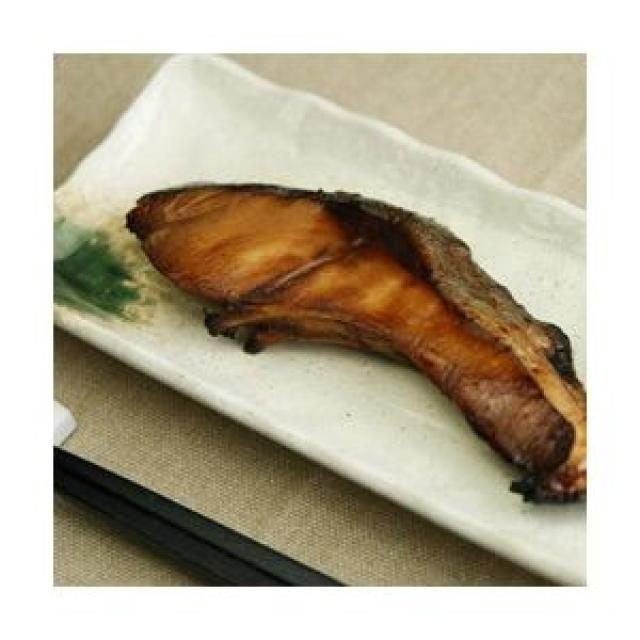熟制海鲜: (90, 160, 584, 499)
